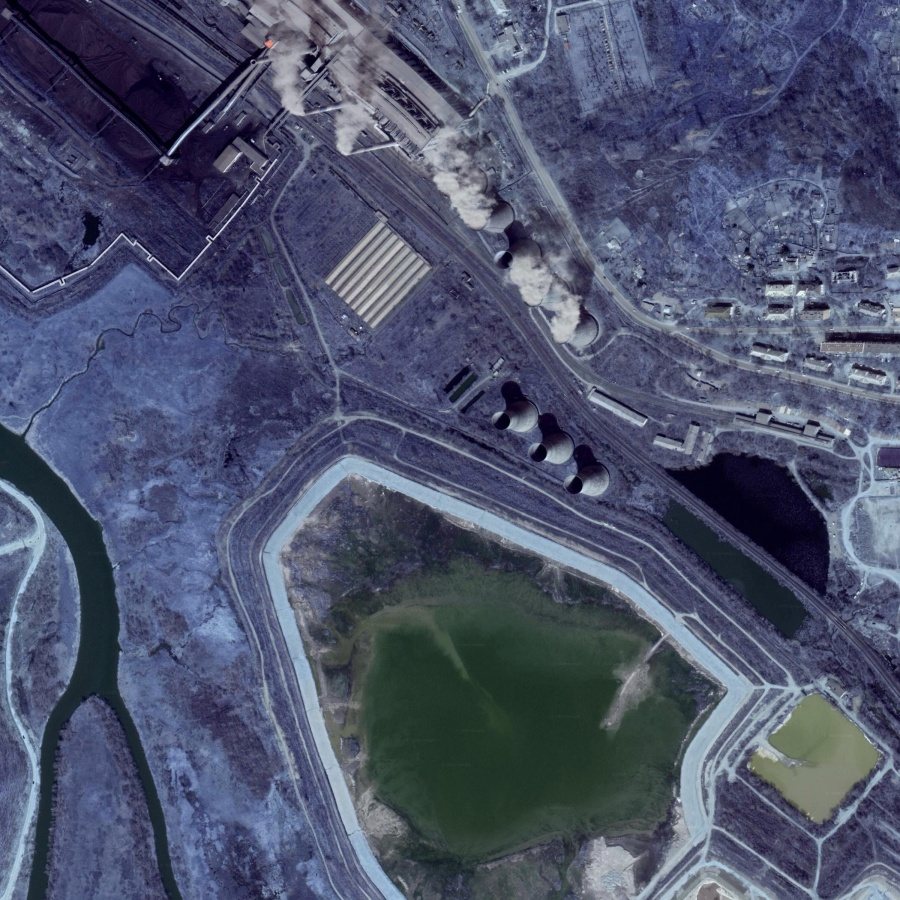PowerPlant: (430, 136, 644, 509)
